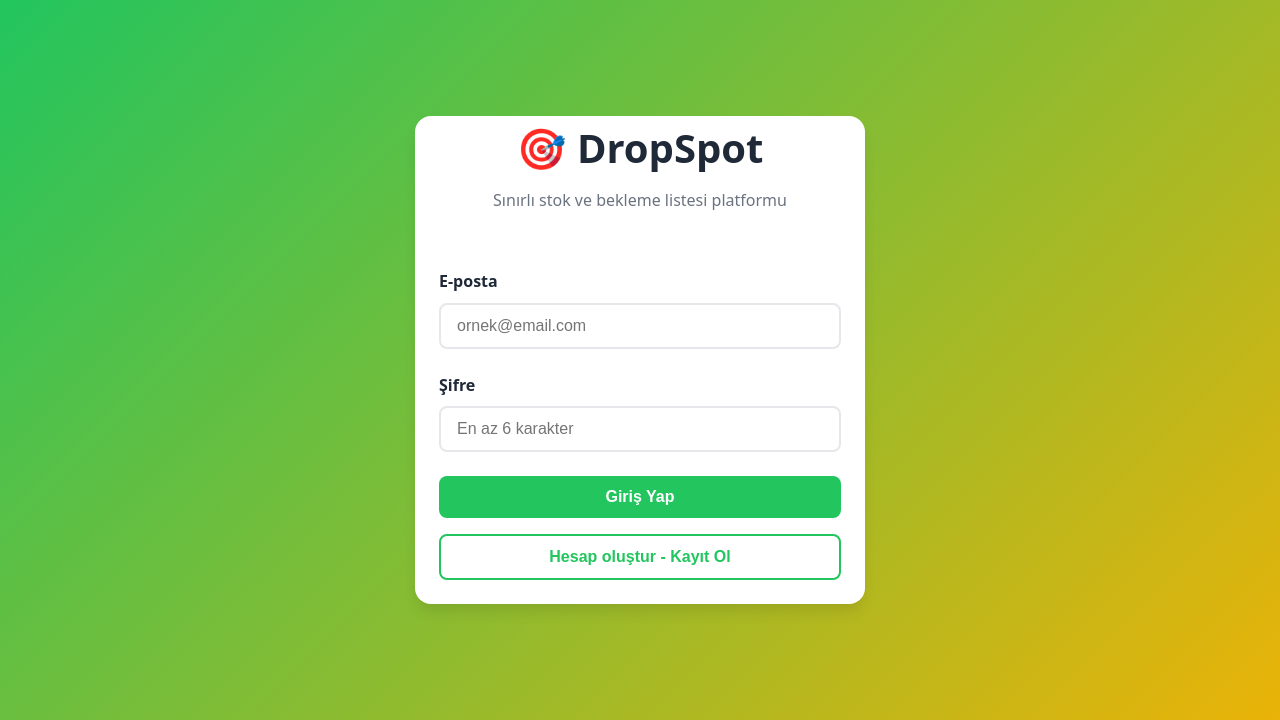
Test case: LoginPage Component › should toggle between login and signup modes
The width and height of the screenshot is (1280, 720).
Expected: the button "Giriş Yap" is shown, [439,476,841,518]
Click the button "Hesap oluştur - Kayıt Ol". click: coordinates (640, 557)
box: [439,534,841,580]
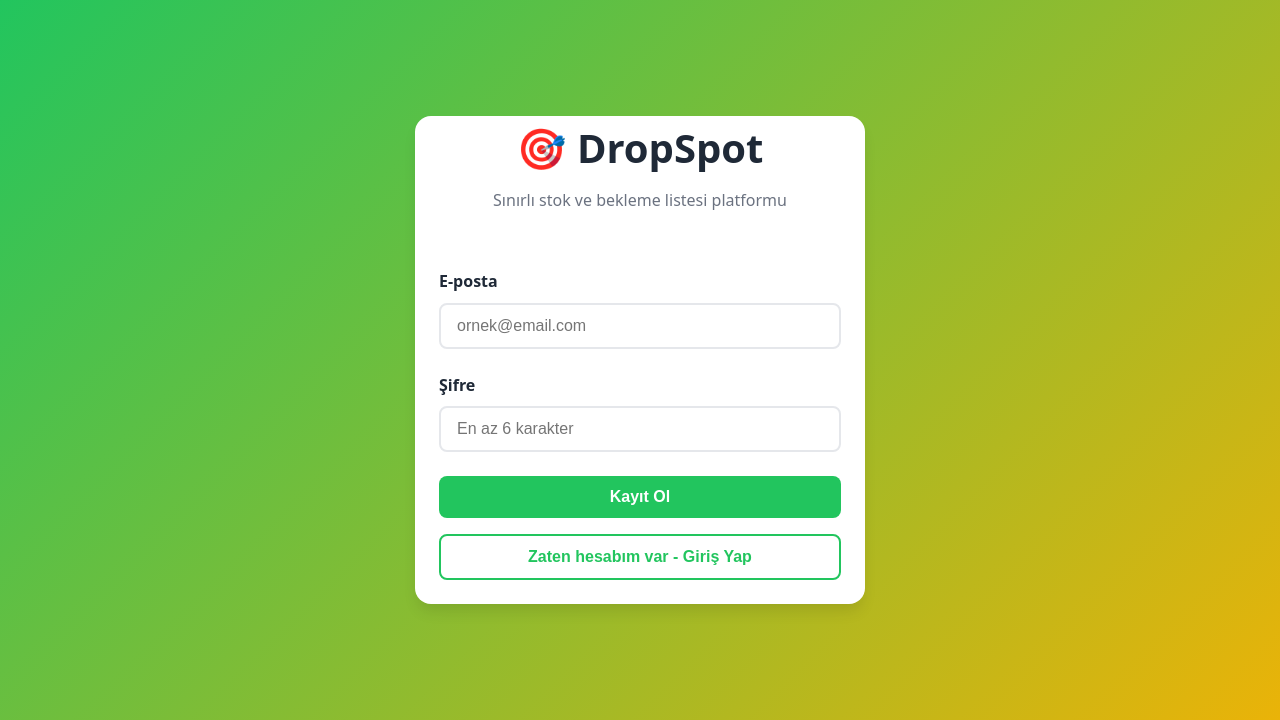
Expected: the button "Kayıt Ol" is shown, [439,476,841,518]
Expected: the button "Zaten hesabım var - Giriş Yap" is shown, [439,534,841,580]
